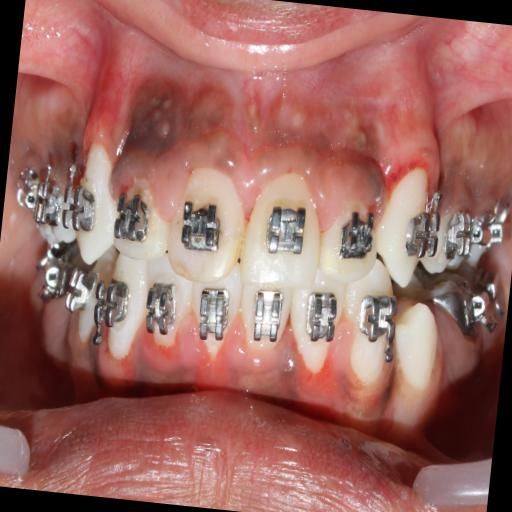correct_brace: (176, 190, 228, 268), (262, 195, 310, 270), (404, 186, 442, 268), (337, 198, 376, 272), (110, 188, 156, 250)
incorrect_brace: (320, 187, 382, 286), (108, 174, 174, 262)
